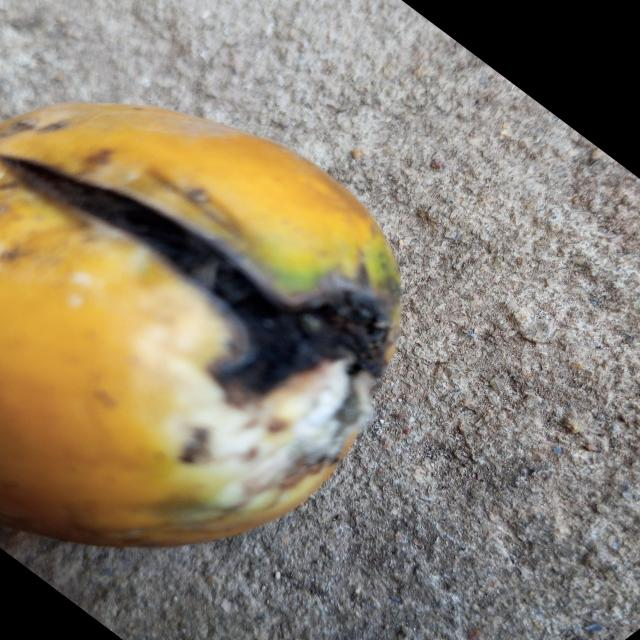damaged: (0, 104, 401, 546)
